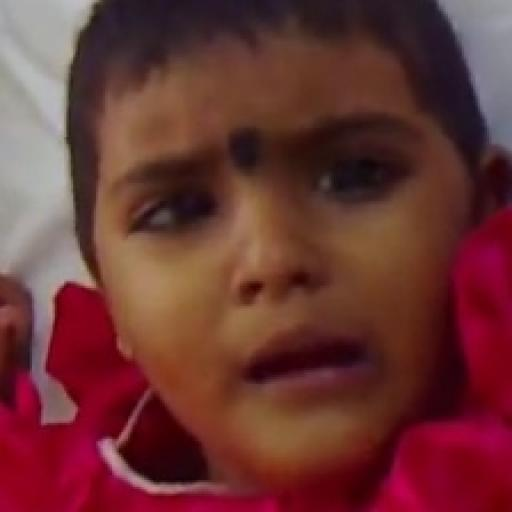Autism: (73, 6, 508, 477)
